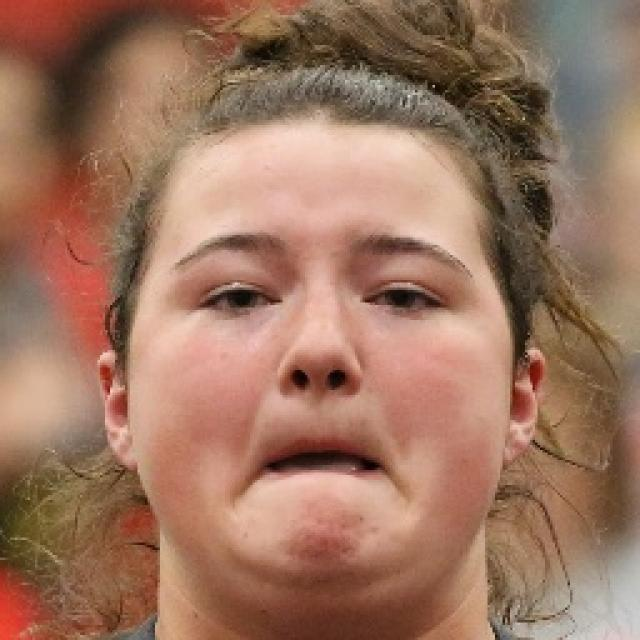earlobe: (96, 351, 141, 475), (501, 348, 547, 469)
